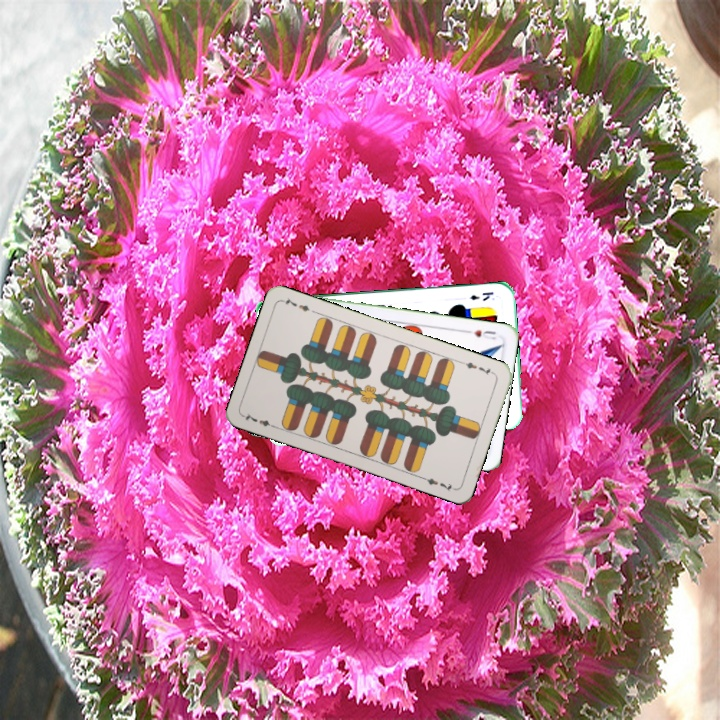E7: (240, 409, 279, 431), (458, 358, 497, 378)
EK: (466, 288, 496, 304)
HU: (462, 326, 498, 342)
